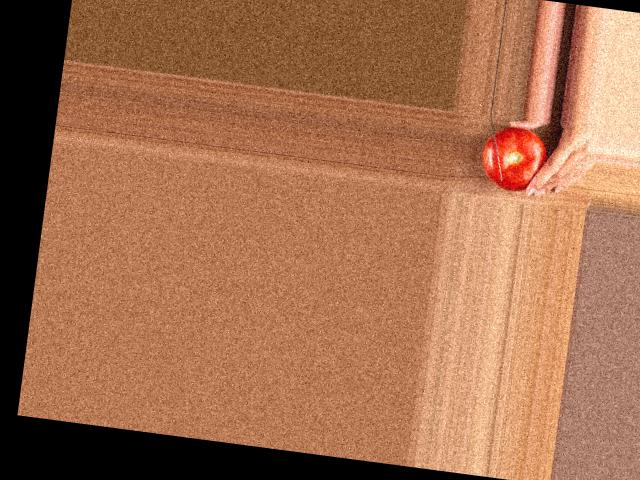tomato: (479, 123, 550, 194)
